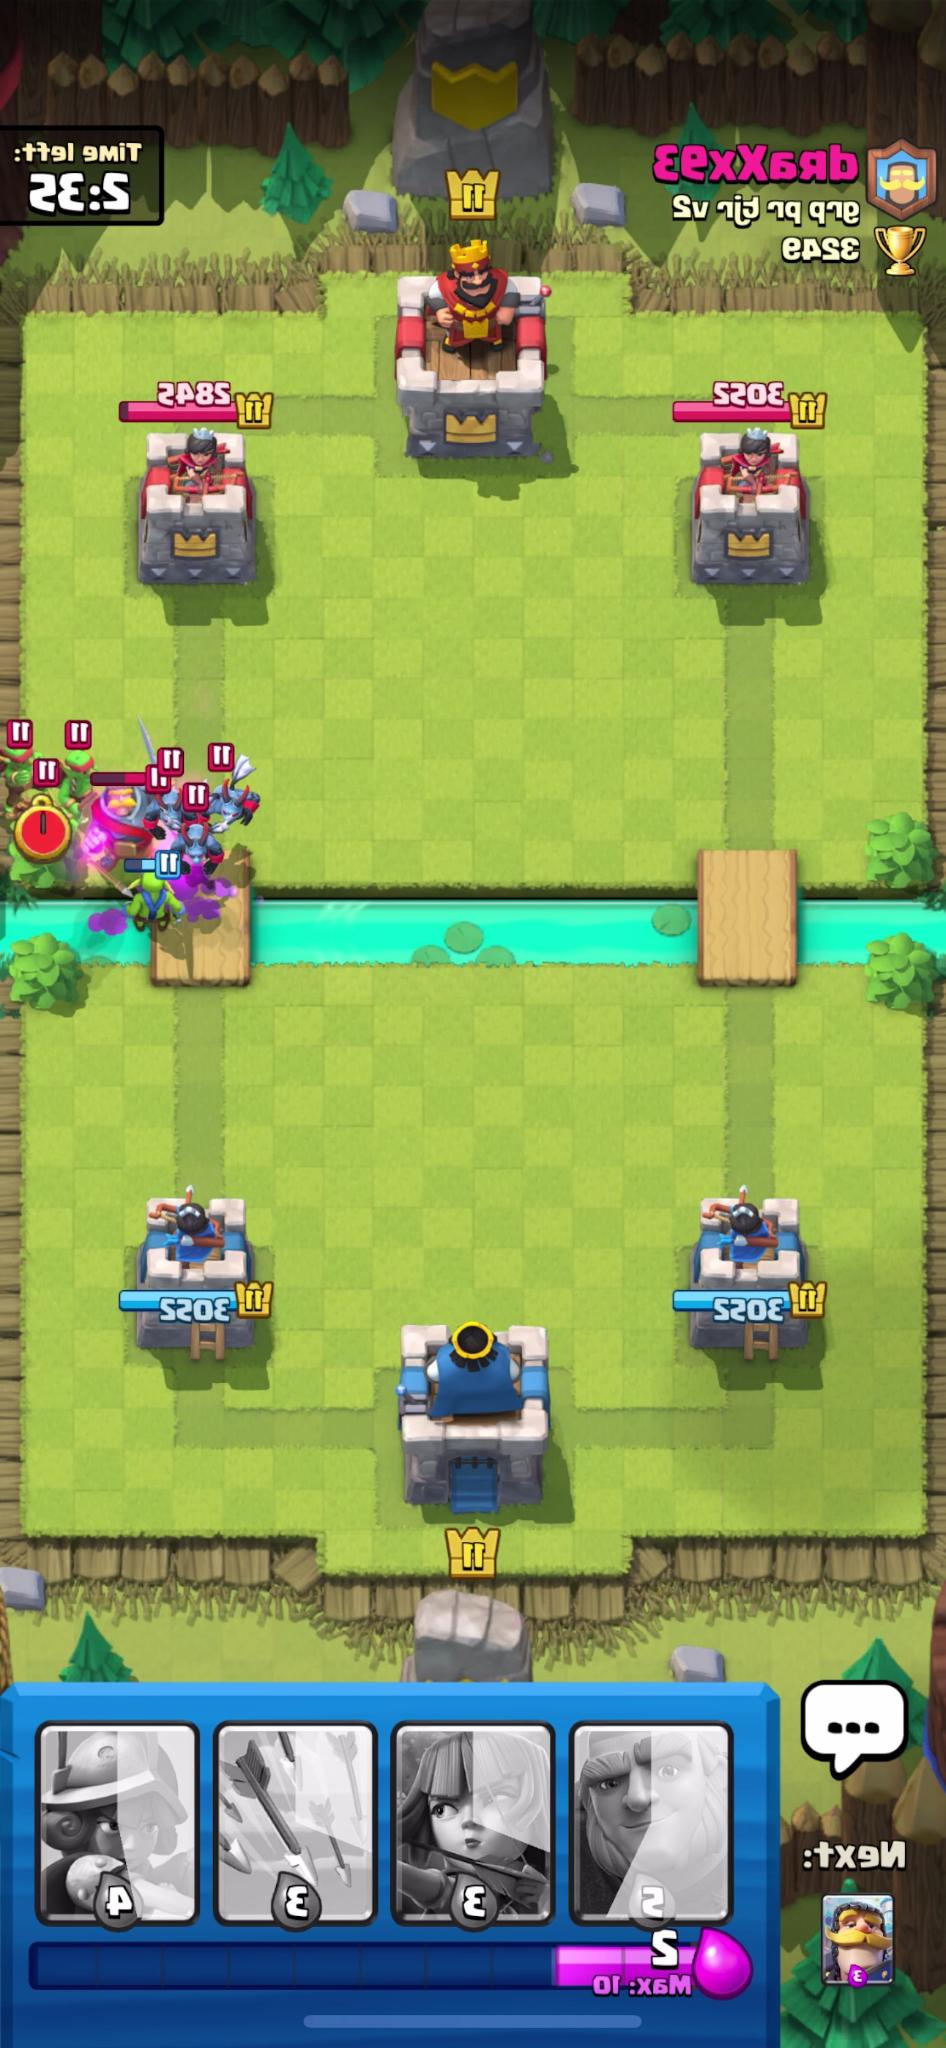chevalier: (74, 775, 166, 889)
gargouille: (212, 751, 260, 832), (140, 772, 192, 840), (180, 820, 229, 884)
gobelin: (0, 716, 48, 824), (116, 865, 184, 940), (48, 734, 99, 822)
